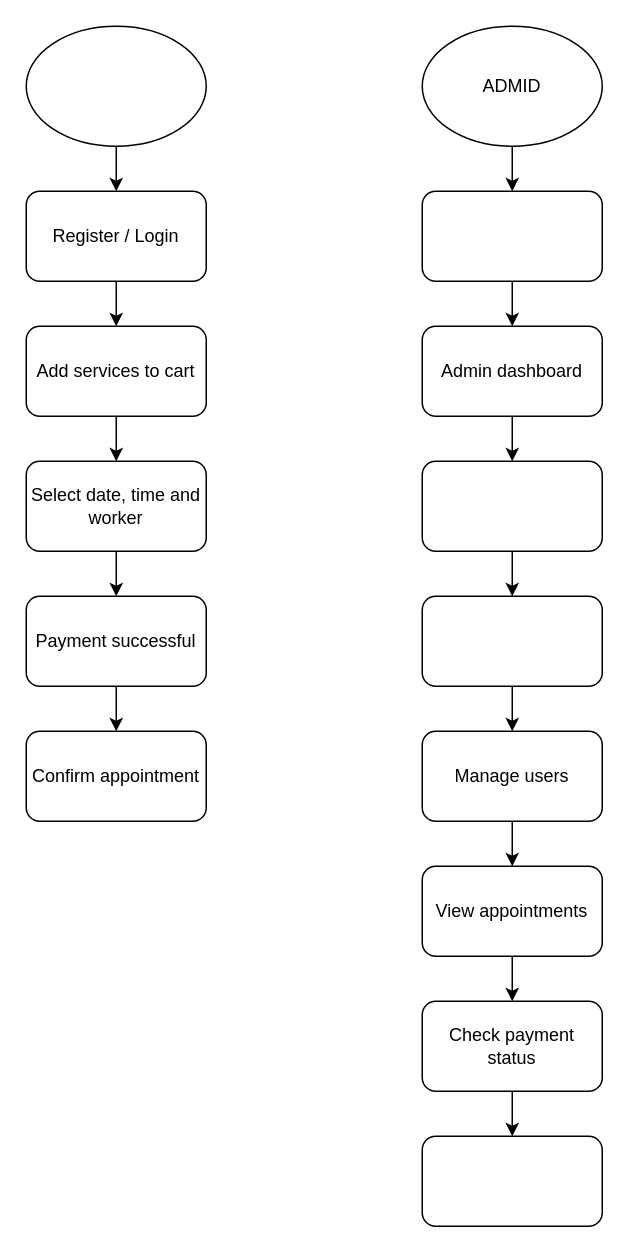
The diagram is 629 pixels wide and 1253 high, and some of its shapes have lost their labels. The centre of each missing label's shape, as x and y in pixels:
"Login" goes at point 511,235.
"Manage services" goes at point 511,505.
"Manage workers" goes at point 511,640.
"USER" goes at point 115,85.
"View activity reports" goes at point 511,1180.
